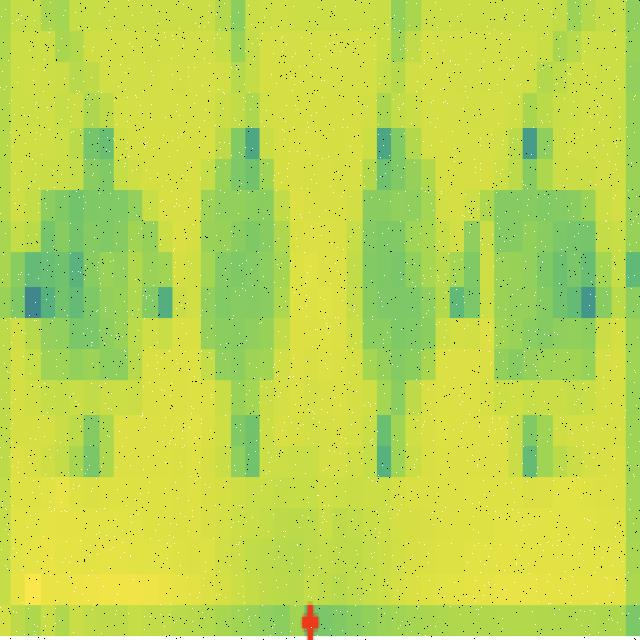Concrete: (202, 160, 290, 384)
Glass: (40, 188, 146, 384)
Metal: (361, 162, 437, 384)
Wood: (492, 192, 596, 380)
